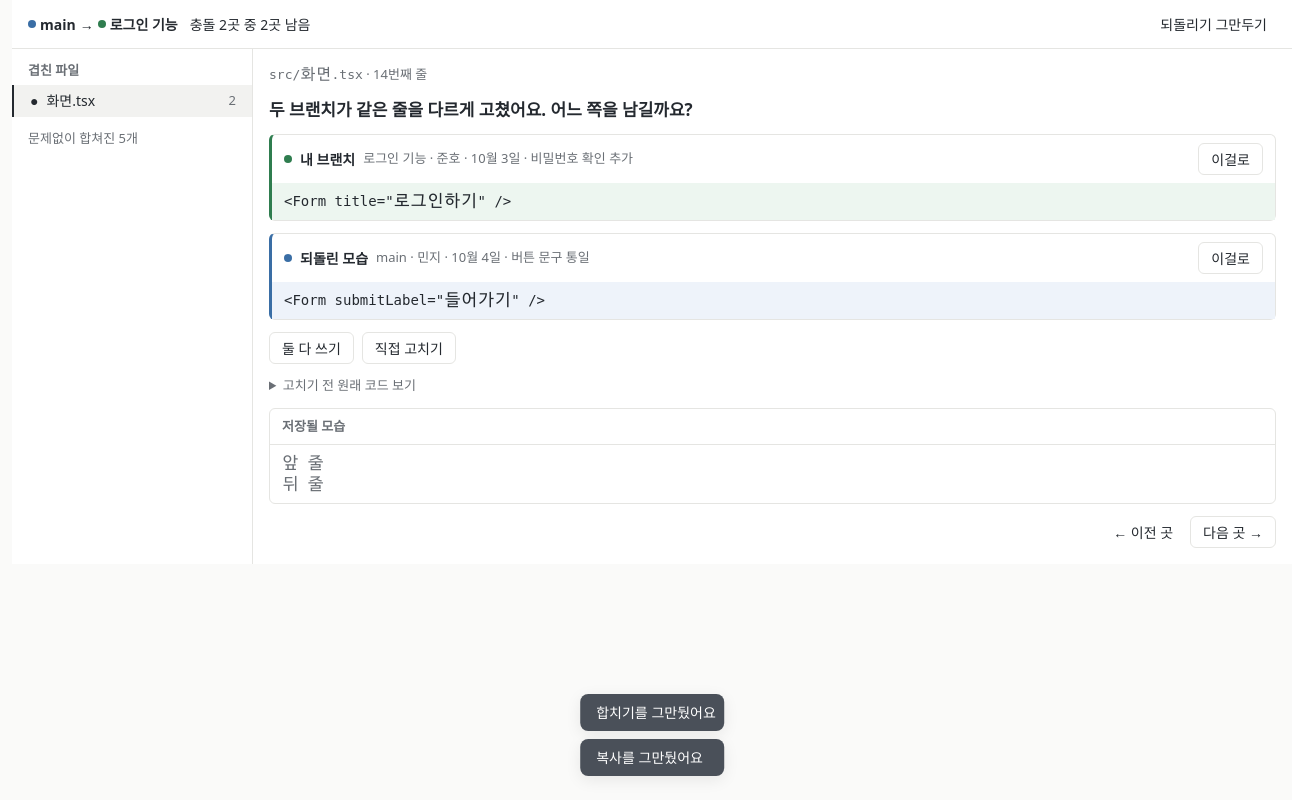
Test case: 충돌 해결 화면 › revert 맥락의 쪽 이름과 단추
Expected: the text "<Form title=\"로그인하기\" />" is shown, [272,183,1275,220]
Expected: the text "내 브랜치" is shown, [300,148,355,170]
Click the button "되돌리기 그만두기".
click(1214, 24)  # box [1151,8,1276,40]
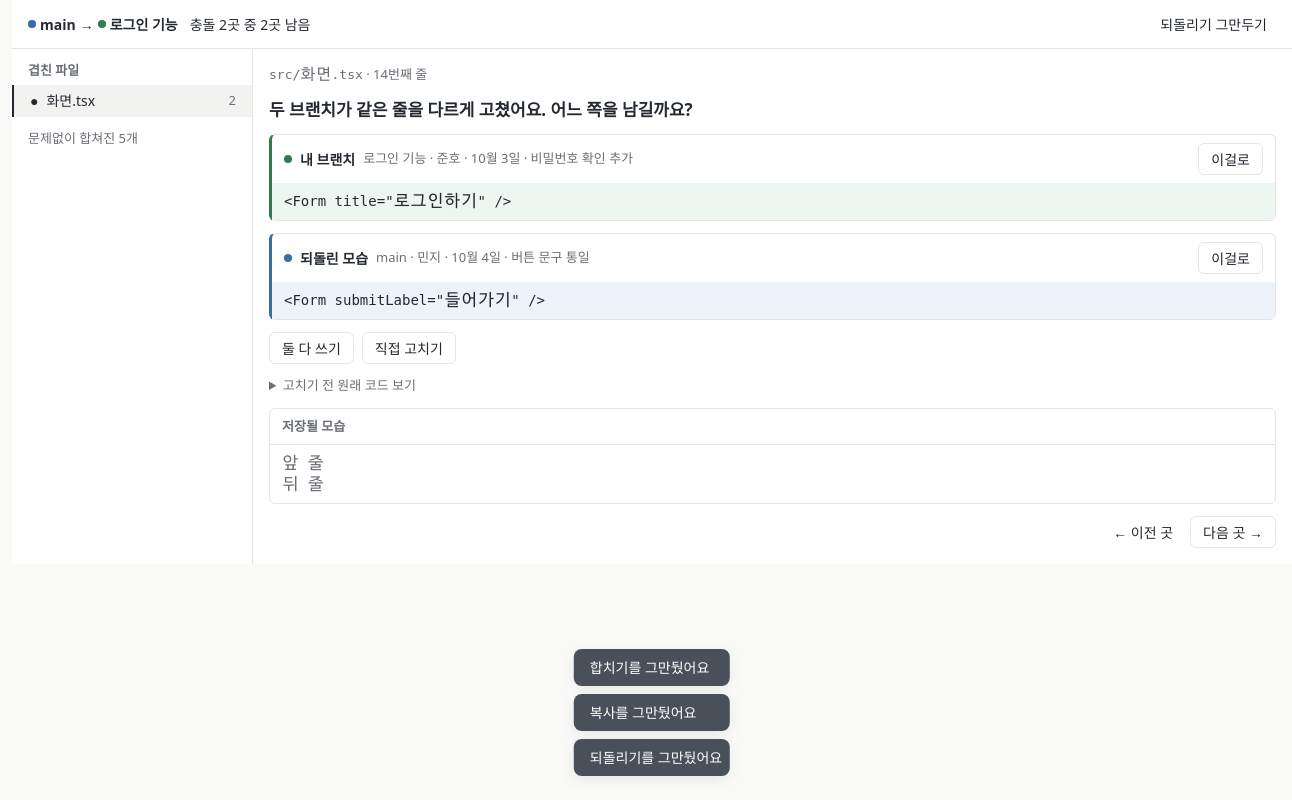
Now the text "되돌리기를 그만뒀어요" is shown, box [590,747,722,768]
